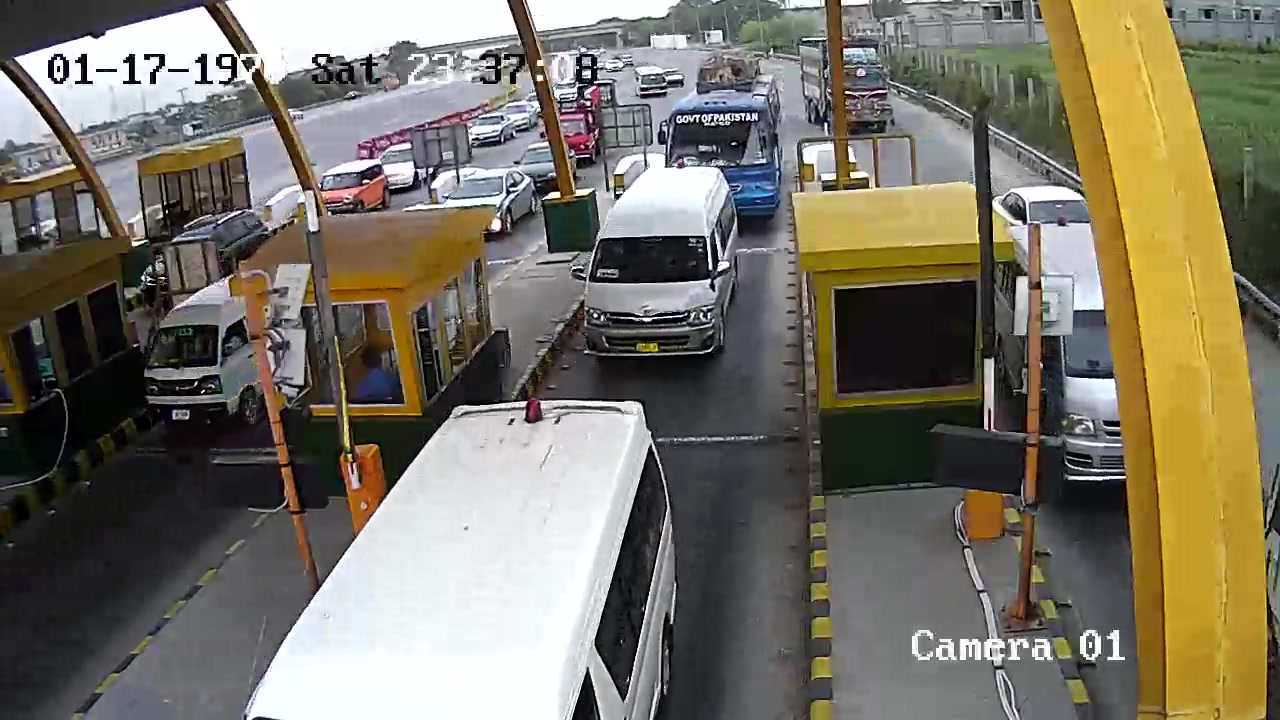F3: (559, 164, 756, 368)
